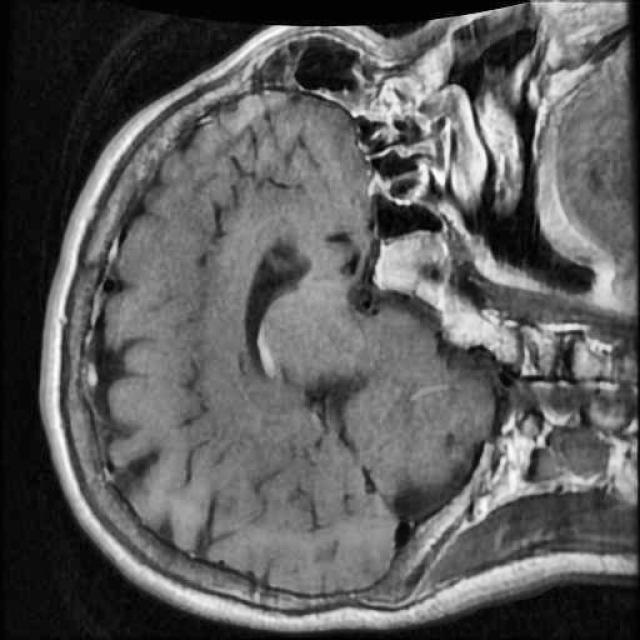Tumor: (361, 218, 464, 316)
